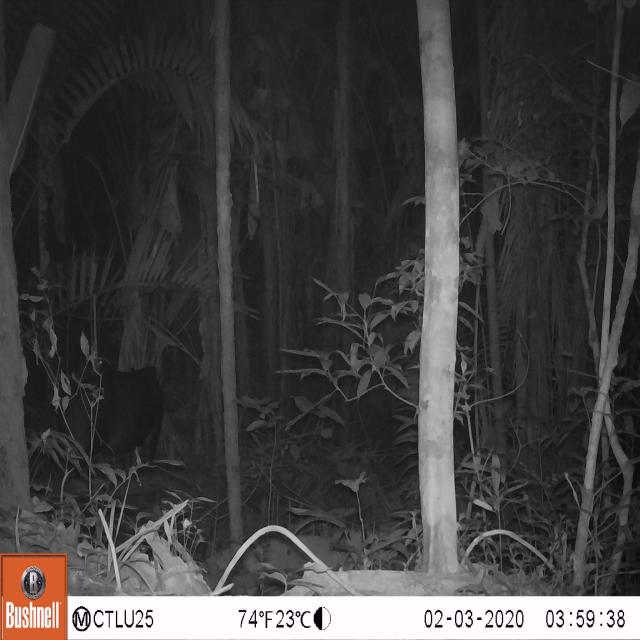Lowland Tapir: (44, 347, 180, 475)
